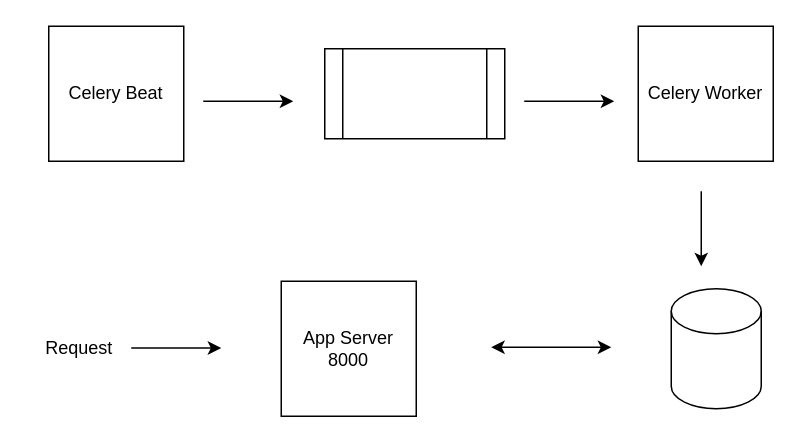
The diagram is 800 pixels wide and 443 high, and some of its shapes have lost their labels. The centre of each missing label's shape, as x and y in pixels:
db: point 715,348
RabbitMq: point 414,93
